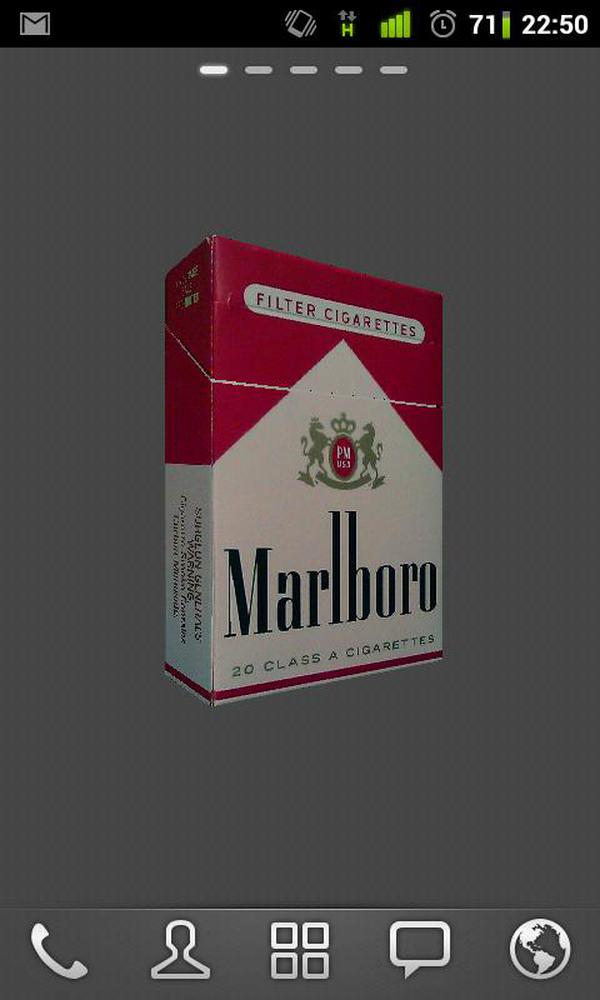marlboro_red: (215, 290, 442, 665)
